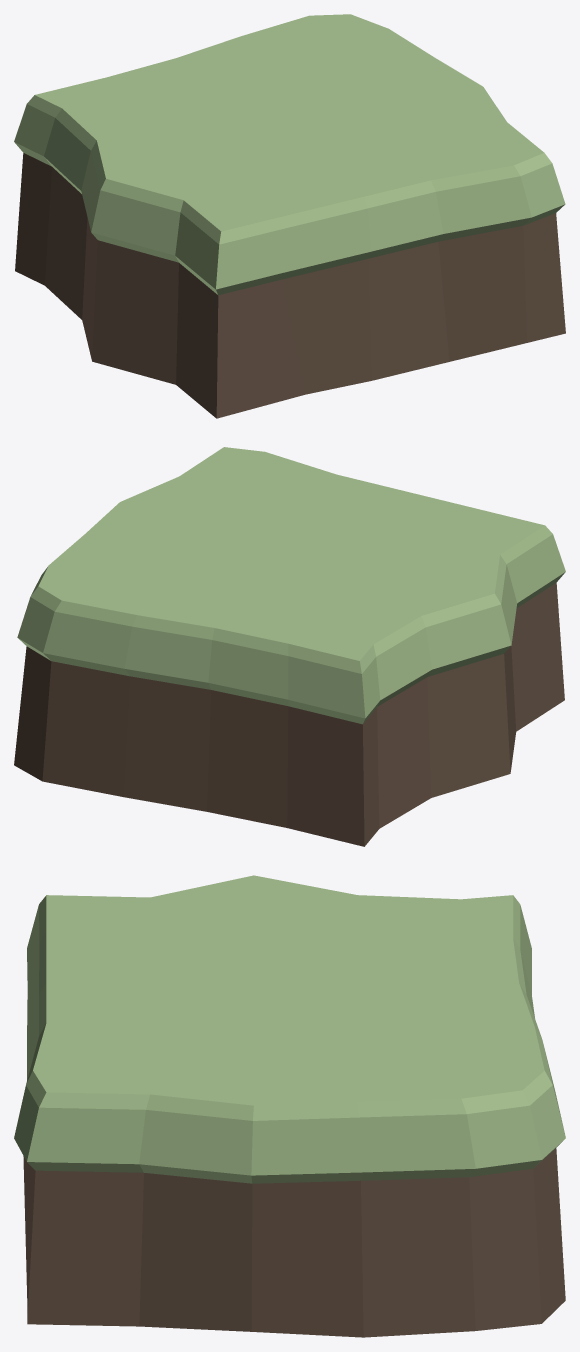
The model's file is Isl_18_Base.fbx.
The picture shows the model from 3 angles, top to bottom: view 1: azimuth 30°, elevation 25°; view 2: azimuth 150°, elevation 25°; view 3: azimuth 270°, elevation 25°; orthographic projection. The views are drawn at different scales.
Visible parts, largest first — view 1: Isl_18_Base; view 2: Isl_18_Base; view 3: Isl_18_Base.
Part boxes in pixels (x1,y1,x2,y2): Isl_18_Base: (14, 14, 565, 418); Isl_18_Base: (14, 447, 565, 846); Isl_18_Base: (14, 875, 565, 1337).
Size of the model in its own units: 2039 by 1915 by 855.
1 material, 1 textured.
